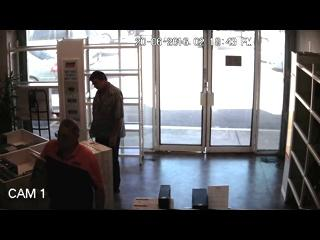Normal: (36, 118, 106, 210), (88, 70, 125, 195)
